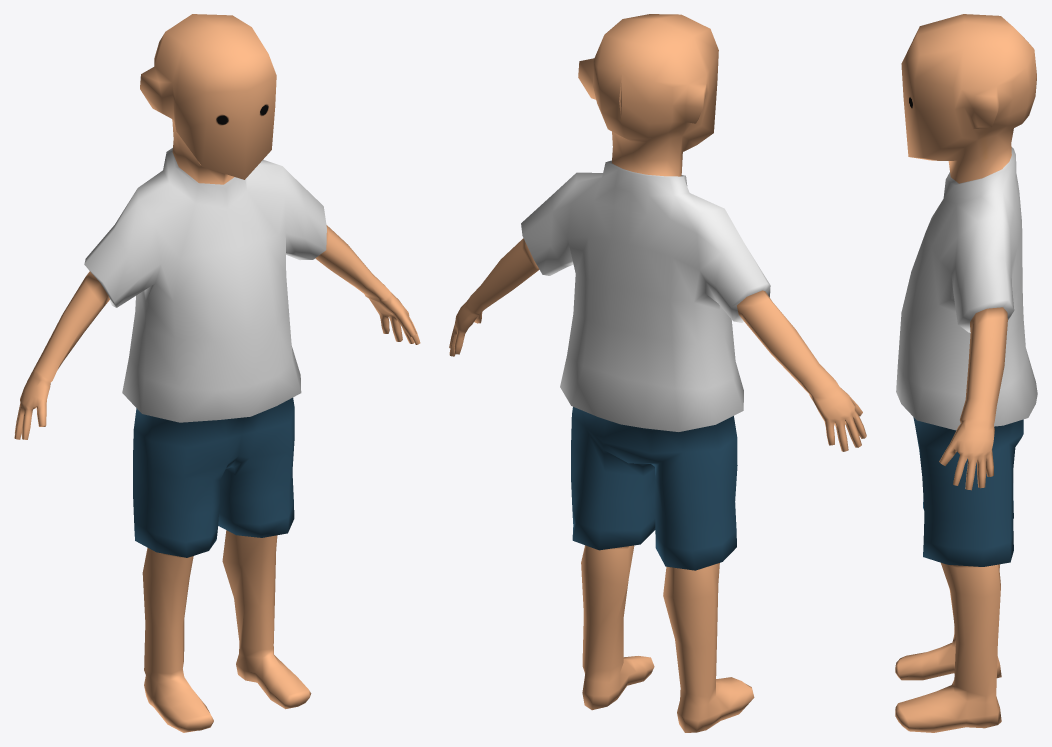
Rendered from chara.fbx.
3 views of the same model, side by side, from view 1: azimuth 30°, elevation 25°; view 2: azimuth 150°, elevation 25°; view 3: azimuth 270°, elevation 25° (orthographic). The views are drawn at different scales.
Parts seen in each view (by area): view 1: chara; view 2: chara; view 3: chara.
Part boxes in pixels (<box>): chara: <box>14,14,420,732</box>; chara: <box>449,14,866,732</box>; chara: <box>895,14,1037,732</box>.
Size of the model in its own units: 5.19 by 8.33 by 1.58.
